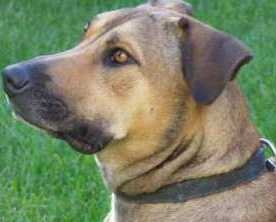dog: (20, 0, 258, 222)
